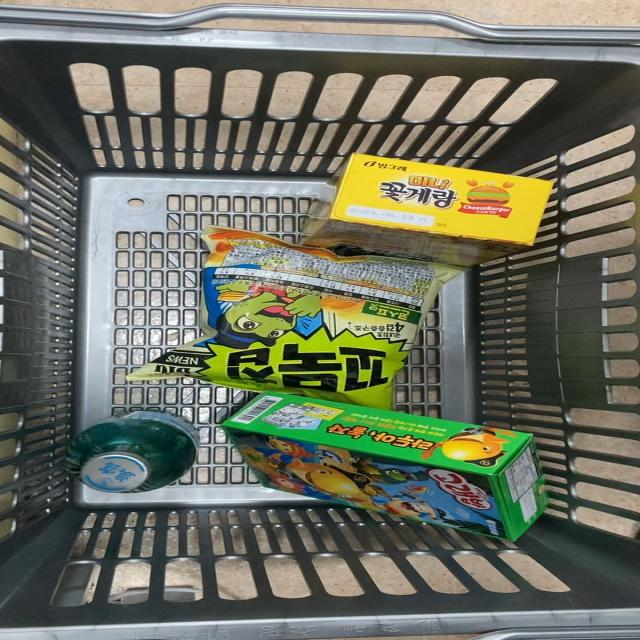ggobukchip: (136, 230, 454, 386)
goraebob: (216, 388, 554, 540)
jinro: (52, 412, 202, 498)
minicrab: (287, 155, 562, 249)
